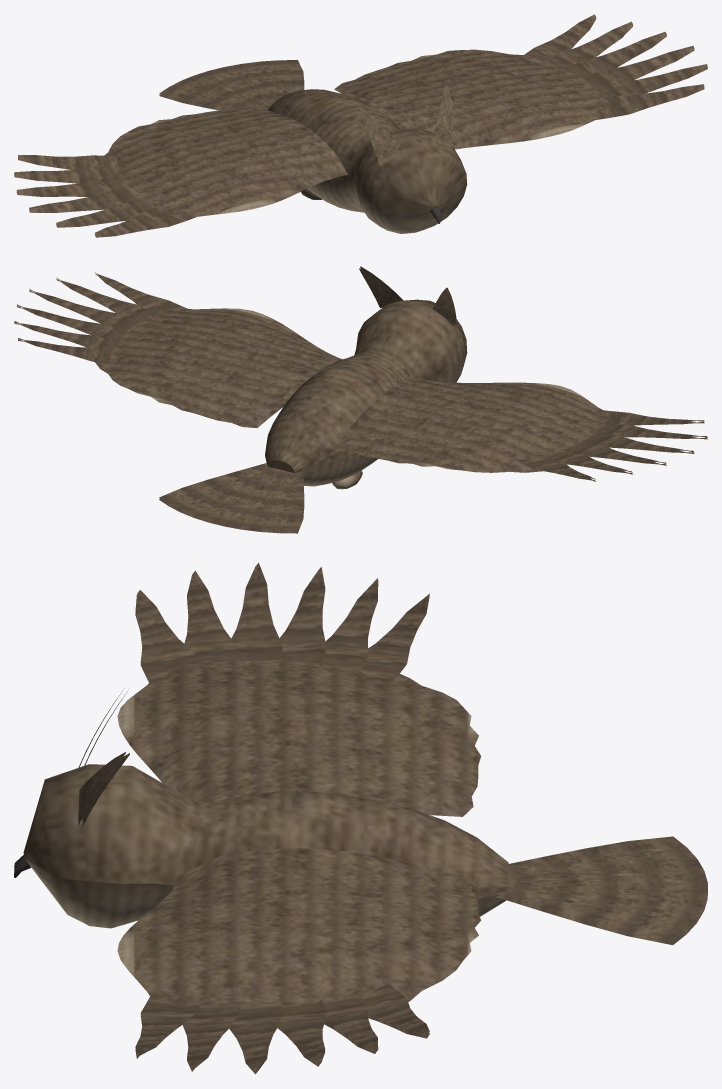
The model's file is owl.glb.
3 views of the same model, one above another, from view 1: azimuth 30°, elevation 25°; view 2: azimuth 150°, elevation 25°; view 3: azimuth 270°, elevation 25° (orthographic). The views are drawn at different scales.
Visible parts, largest first — view 1: wing_R, wing_L, body; view 2: body, wing_L, wing_R; view 3: wing_R, wing_L, body.
Boxes of the visible parts, box(x1,y1,x2,y2) form: wing_R: box(14, 107, 348, 237); wing_L: box(334, 14, 707, 149); body: box(159, 60, 467, 233); body: box(159, 266, 467, 533); wing_L: box(14, 272, 342, 427); wing_R: box(334, 377, 707, 481); wing_R: box(117, 562, 480, 816); wing_L: box(117, 848, 480, 1074); body: box(23, 688, 707, 944).
Bounding box in the file's own units: 1.07 × 0.2327 × 0.6227.
Materials: 3 (1 with a texture image).
